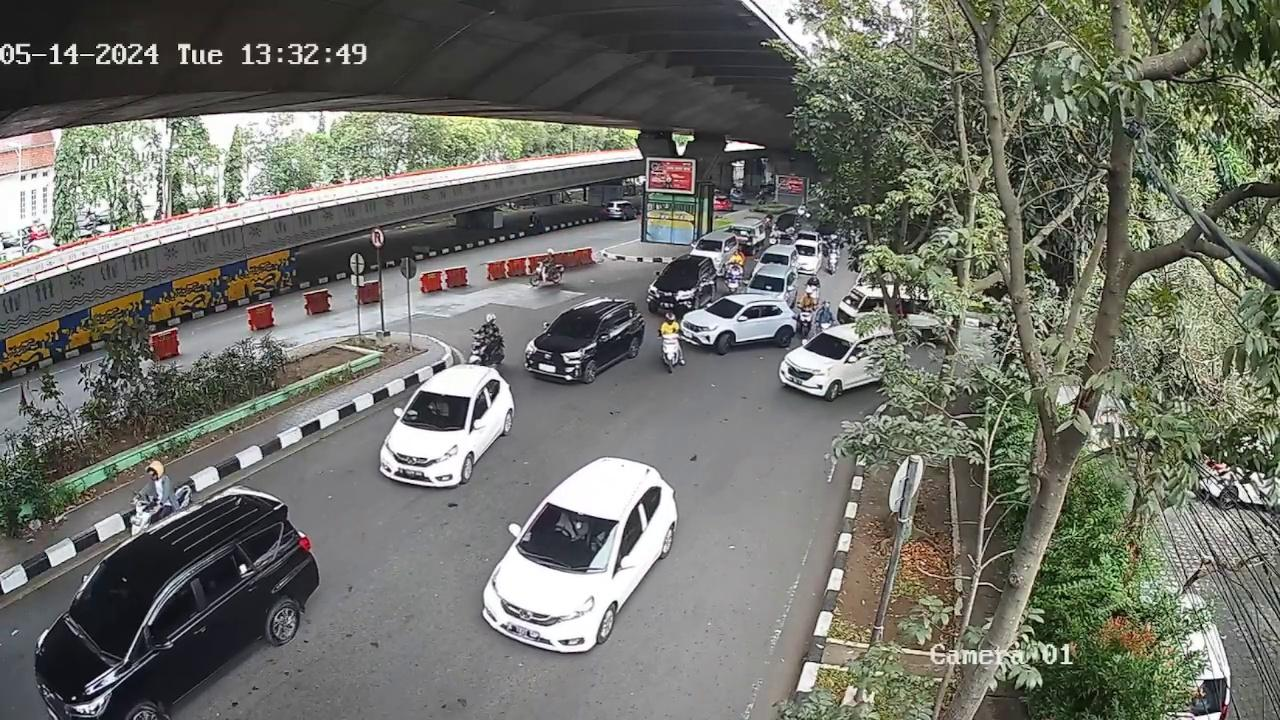pakai: (557, 516, 585, 541), (426, 400, 450, 418)
windshield: (70, 563, 156, 654), (517, 504, 618, 570), (402, 390, 470, 432), (542, 313, 600, 339), (805, 330, 853, 360)
